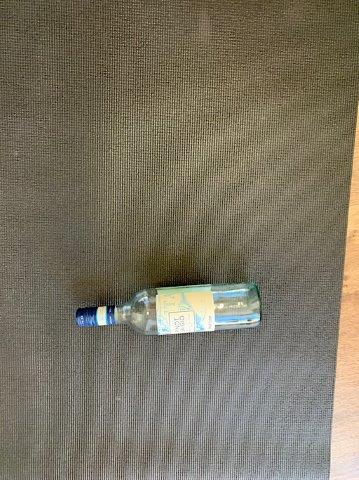botolkaca: (75, 282, 262, 334)
